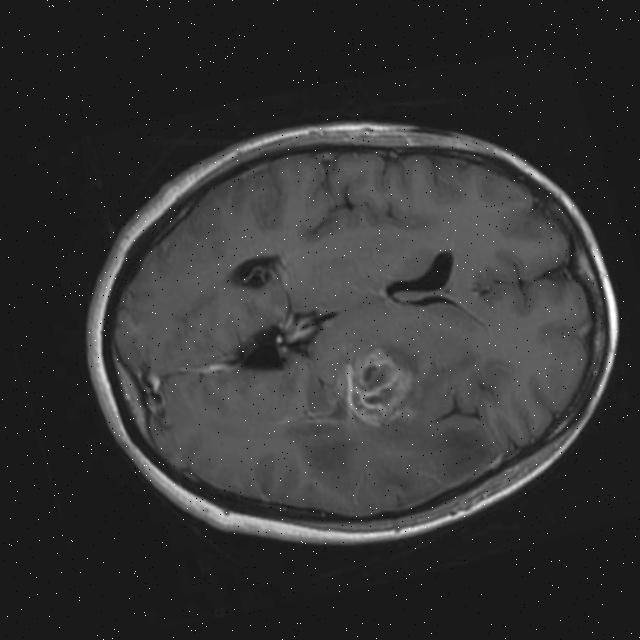Glioma: (331, 335, 429, 436)
